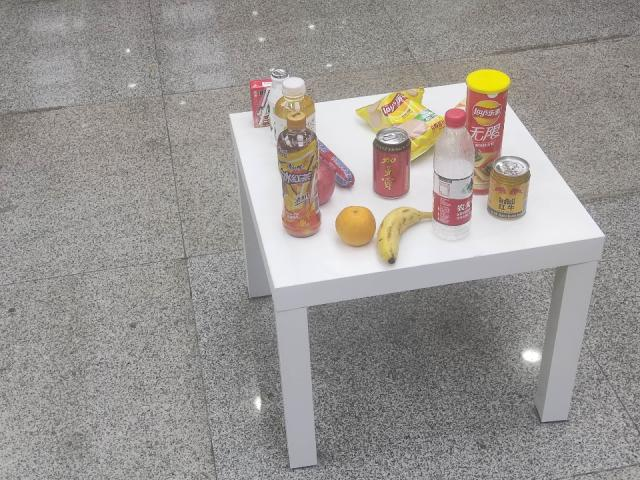Canned_drinks: (483, 156, 535, 218), (371, 127, 414, 200)
bottle: (418, 103, 481, 244), (278, 109, 322, 239)
cylinder: (465, 66, 510, 198)
drink_box: (240, 75, 277, 128)
